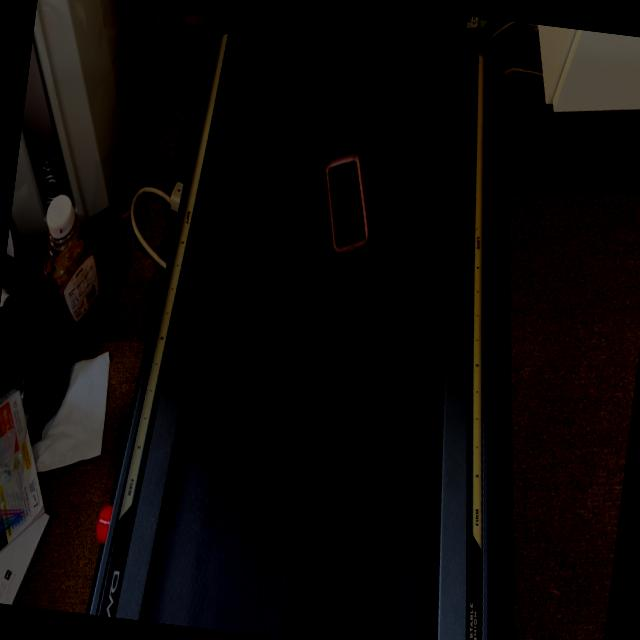Trash: (311, 145, 378, 263)
